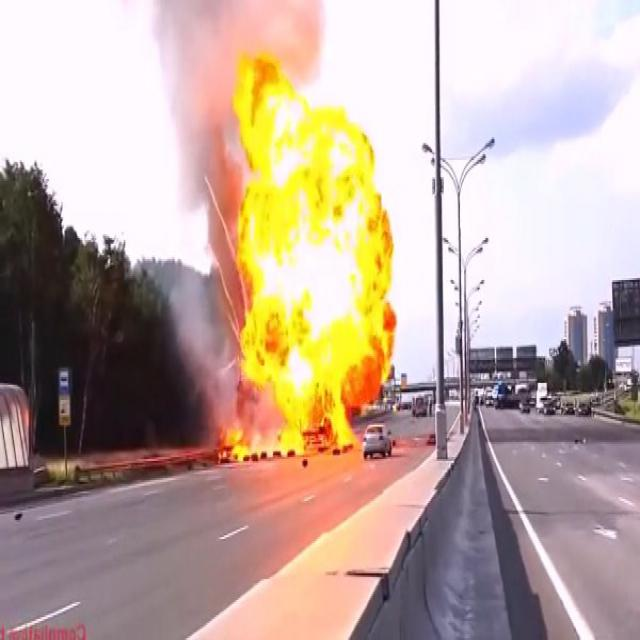fire: (222, 44, 400, 463)
